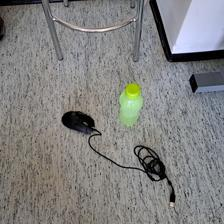bottle: (117, 83, 143, 127)
mouse: (61, 109, 95, 134)
